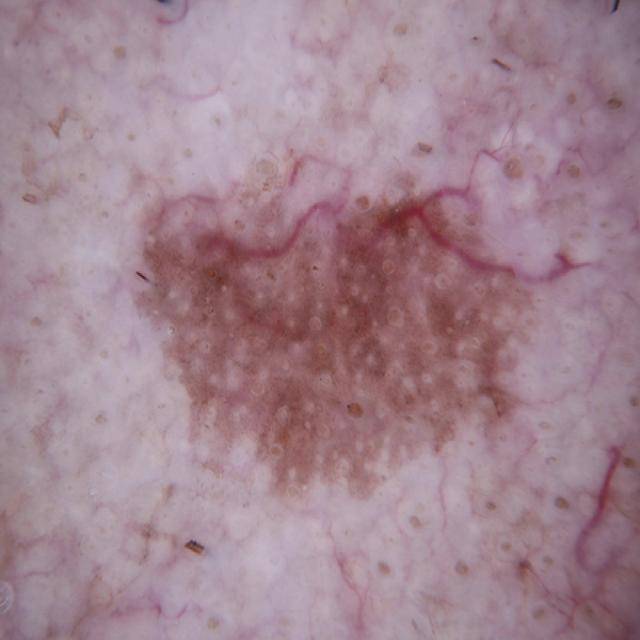Skin-Cancer Pigmented benign keratosis: (24, 13, 634, 640)
